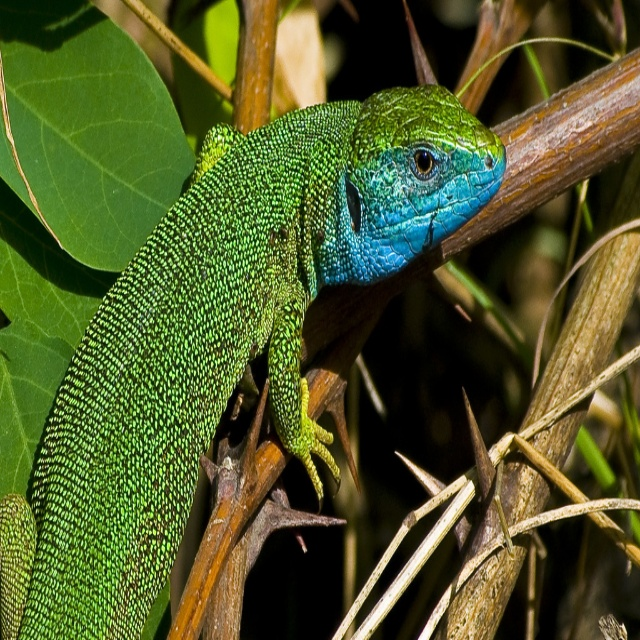Lizard: (0, 84, 507, 640)
